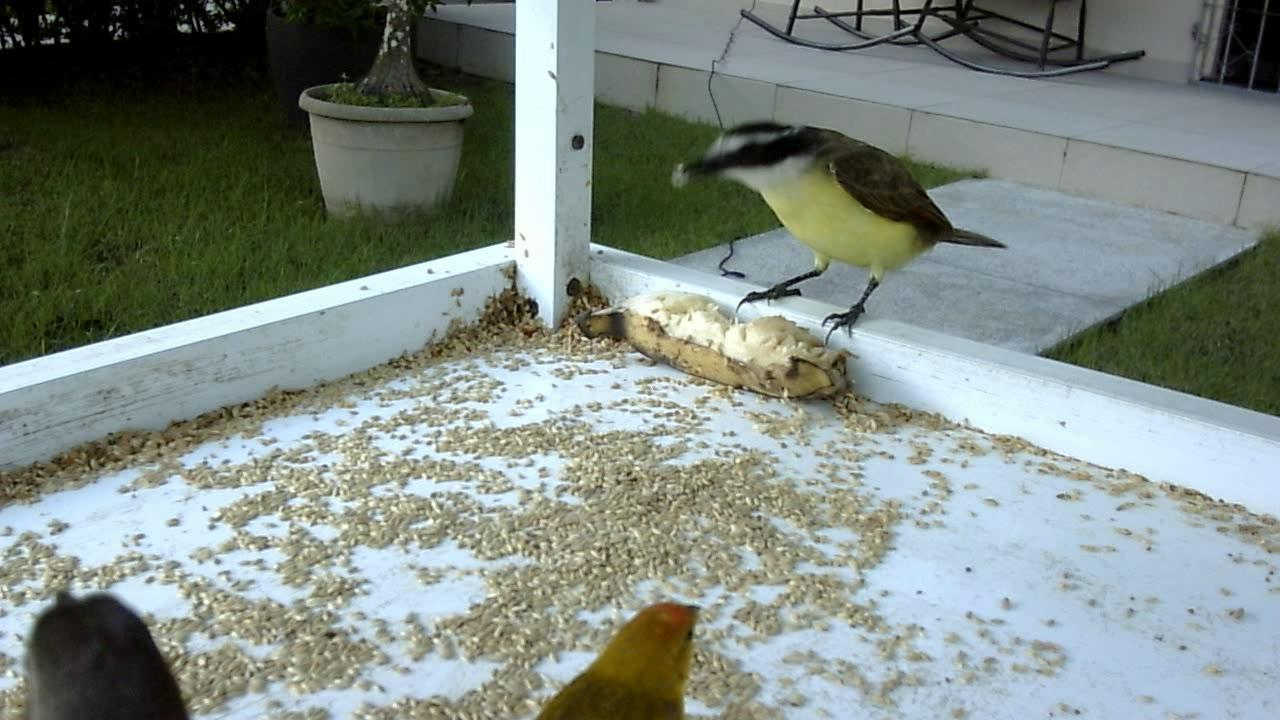bem_te_vi: (658, 96, 1012, 359)
canario_do_amazonas: (520, 590, 710, 718)
chupim: (6, 575, 215, 720)
